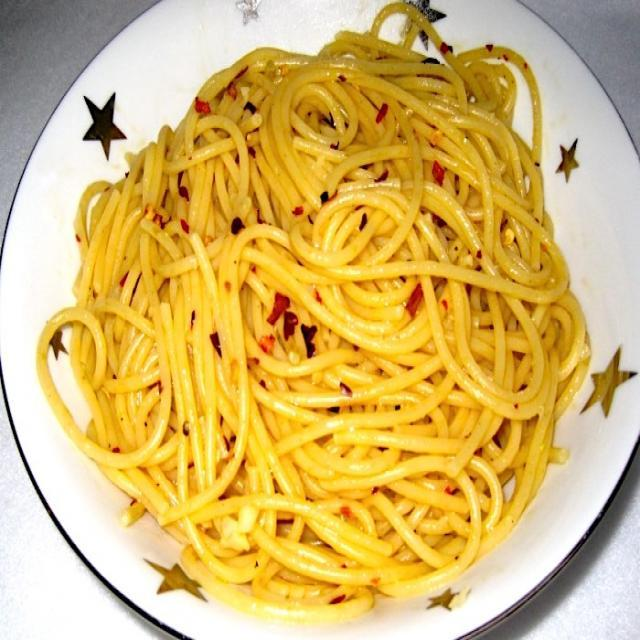Oil pasta: (52, 24, 588, 613)
